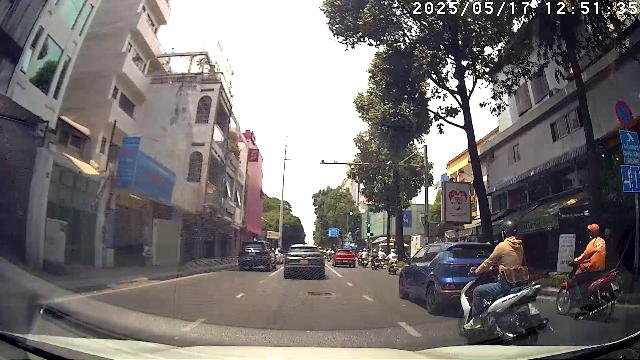130-cam-dung-va-do-xe: (615, 99, 634, 129)
